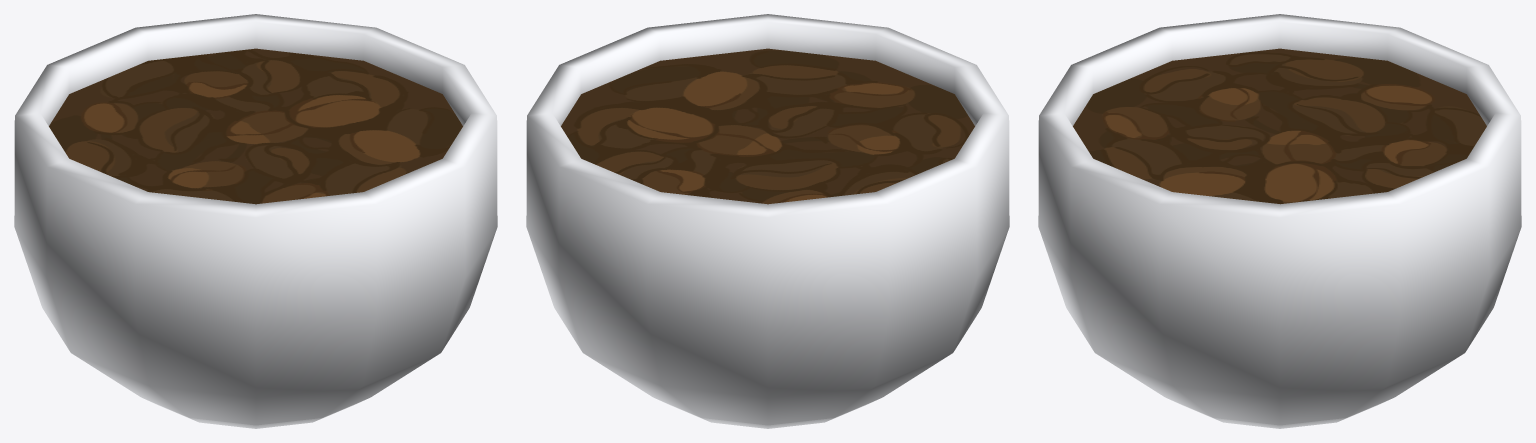
The model's file is Roasted Coffee.fbx.
3 views of the same model, side by side, from view 1: azimuth 30°, elevation 25°; view 2: azimuth 150°, elevation 25°; view 3: azimuth 270°, elevation 25° (orthographic).
Parts seen in each view (by area): view 1: coffeebeans.001; view 2: coffeebeans.001; view 3: coffeebeans.001.
Boxes of the visible parts, x1,y1,x2,y2 form: coffeebeans.001: [14, 14, 497, 428]; coffeebeans.001: [526, 14, 1009, 428]; coffeebeans.001: [1038, 14, 1521, 428].
Bounding box in the file's own units: 38.86 × 23.77 × 38.86.
